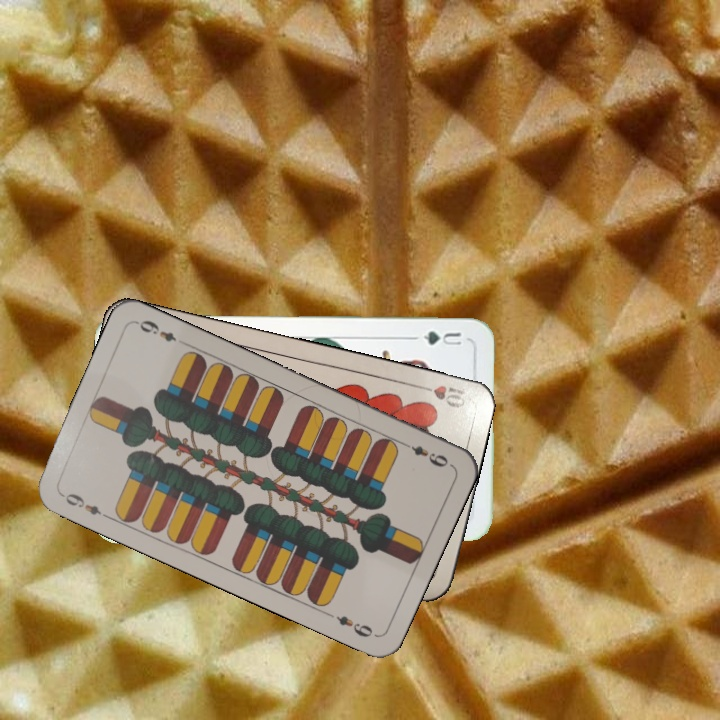E9: (398, 438, 454, 470), (56, 489, 112, 521)
GU: (418, 327, 464, 348)
H10: (412, 380, 472, 411)
